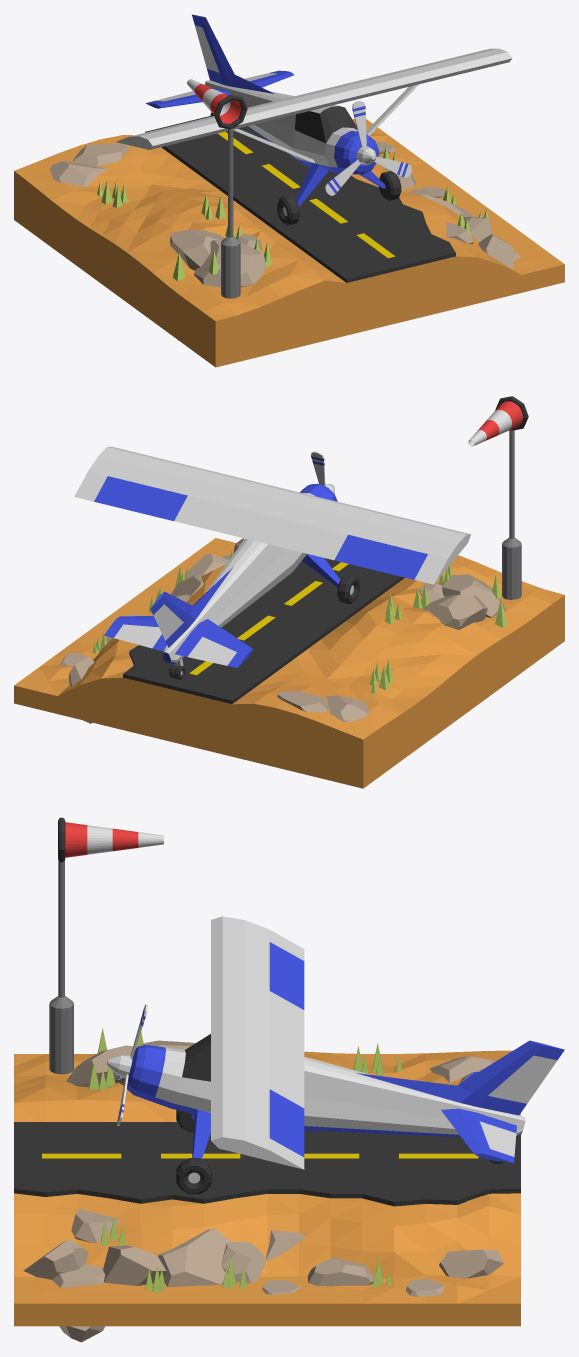
Rendered from airplane.glb.
The picture shows the model from 3 angles, top to bottom: view 1: azimuth 30°, elevation 25°; view 2: azimuth 150°, elevation 25°; view 3: azimuth 270°, elevation 25°; orthographic projection. The views are drawn at different scales.
Visible parts, largest first — view 1: Ground, road, Plane, Pole, blade, wind; view 2: Ground, Plane, road, Pole, wind; view 3: Ground, Plane, road, Pole, wind, blade.
Boxes of the visible parts, x1,y1,x2,y2 form: Ground: (14,119,564,367); road: (145,116,455,282); Plane: (116,14,512,225); Pole: (214,95,247,298); blade: (325,101,411,195); wind: (187,79,241,123); Ground: (14,538,564,788); Plane: (74,446,470,679); road: (123,558,404,703); Pole: (495,396,528,599); wind: (468,401,523,446); Ground: (14,1028,520,1342); Plane: (127,916,564,1194); road: (14,1122,520,1206); Pole: (49,817,73,1074); wind: (65,822,163,857); blade: (107,1004,147,1125).
Bounding box in the file's own units: 8.59 × 5.97 × 8.7.
